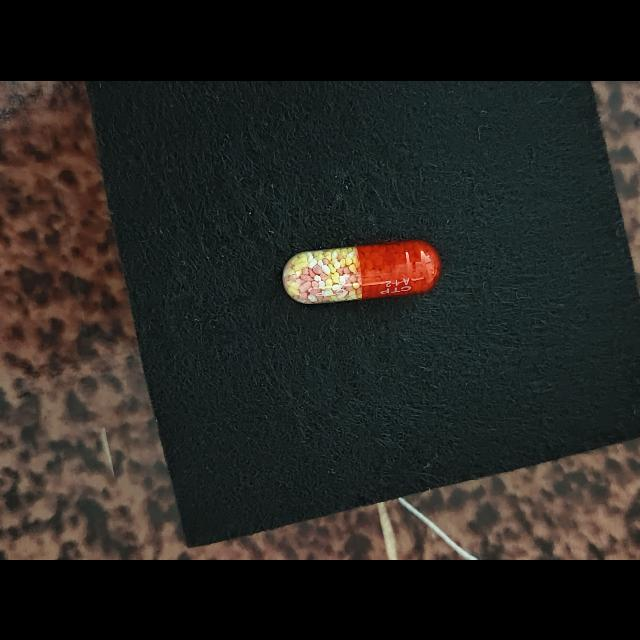Intact Capsule: (283, 239, 441, 304)
